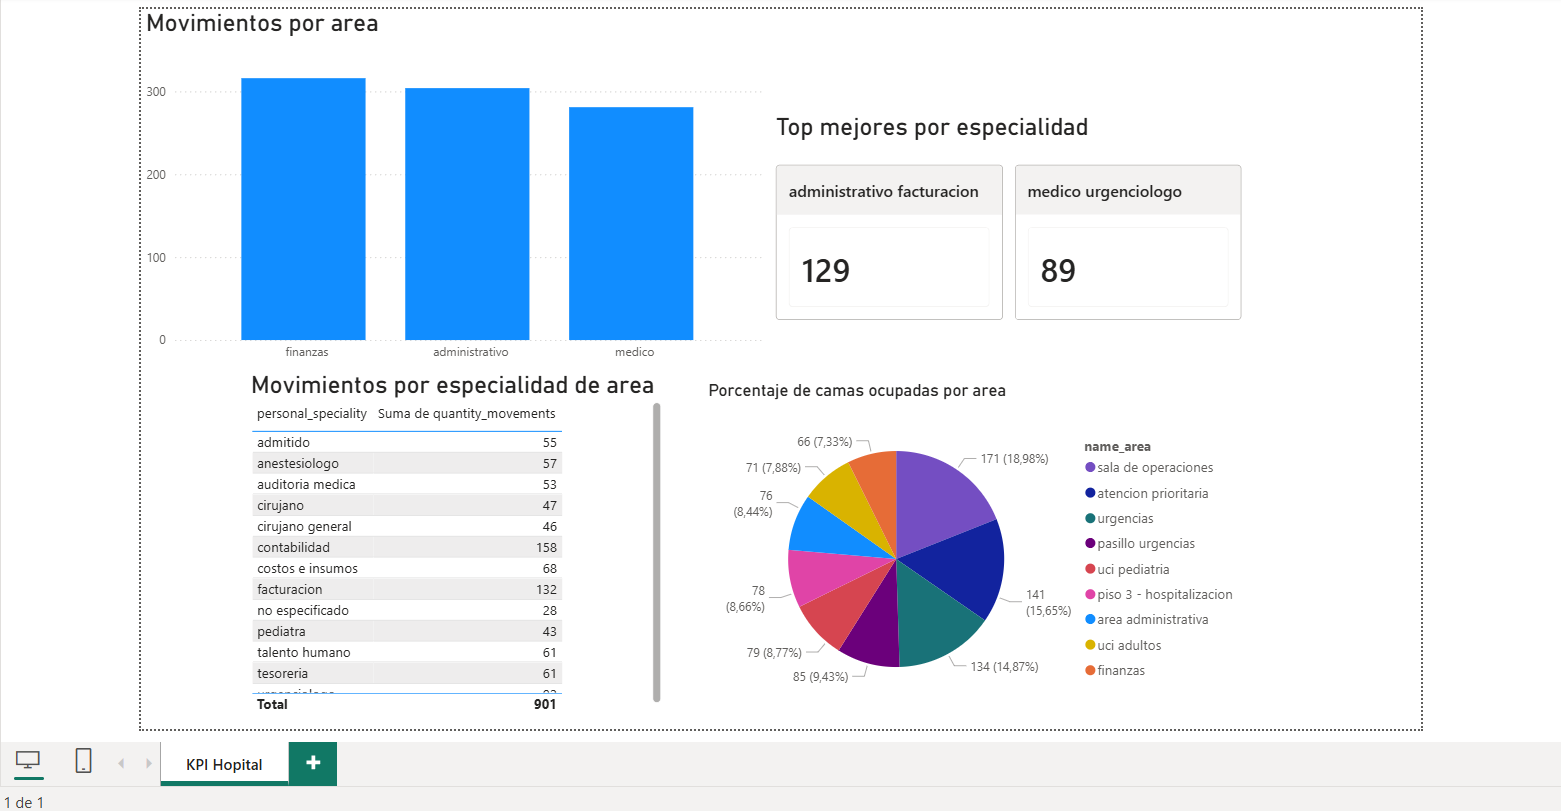

Layout of this report page (visuals, bound fields, positions):
{"tool":"powerbi","page":{"name":"KPI Hopital","canvas":[1280,720],"ordinal":0},"visuals":[{"type":"columnChart","title":"Movimientos por area","fields":{"Category":["public vw_movimientos_por_rol.personal_role"],"Y":["Sum(public vw_movimientos_por_rol.quantity_movements)"]},"box":[0,0,630,361.2],"z":0},{"type":"tableEx","title":"Movimientos por especialidad de area","fields":{"Values":["public vw_movimientos_por_rol.personal_speciality","Sum(public vw_movimientos_por_rol.quantity_movements)"]},"box":[105,361.2,420,348.8],"z":1000},{"type":"cardVisual","title":"Top mejores por especialidad","fields":{"Rows":["public vw_top_mejores_roles_por_movimientos.personal_role","public vw_top_mejores_roles_por_movimientos.personal_speciality"],"Data":["Sum(public vw_top_mejores_roles_por_movimientos.quantity_movements)"]},"box":[630,103.8,476.2,232.5],"z":2000},{"type":"pieChart","title":"Porcentaje de camas ocupadas por area","fields":{"Y":["Sum(public vw_porcentaje_camas_ocupadas.total_beds)"],"Category":["public vw_porcentaje_camas_ocupadas.name_area"],"Series":["public vw_porcentaje_camas_ocupadas.total_beds_ocuped"]},"box":[562.5,371.2,543.8,338.8],"z":3000}]}

Visuals, with their boxes on the page's 1280x720 design canvas (x1, y1, x2, y2). These are canvas units, not pixel positions in the 1561x811 screenshot, which may show the page scaled, cropped or inside an application window:
"Movimientos por area" columnChart: locate(0, 0, 630, 361)
"Movimientos por especialidad de area" tableEx: locate(105, 361, 525, 710)
"Top mejores por especialidad" cardVisual: locate(630, 104, 1106, 336)
"Porcentaje de camas ocupadas por area" pieChart: locate(562, 371, 1106, 710)
